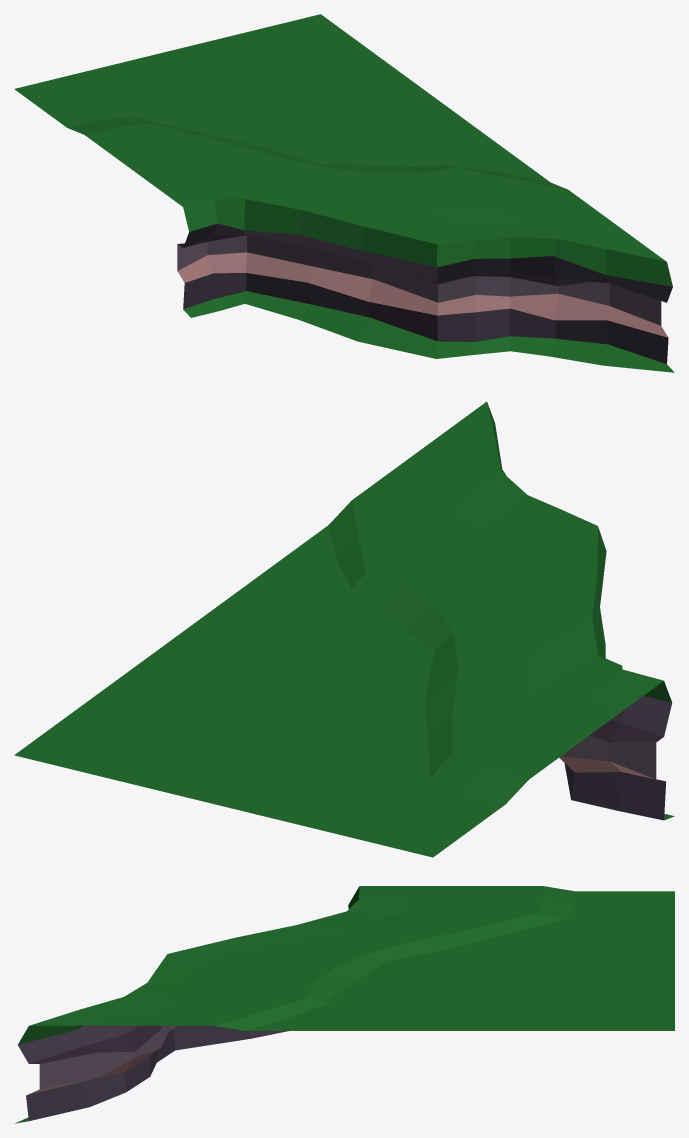
Rendered from Barranco_a_Cesped_ChanfleID.fbx.
3 views of the same model, one above another, from view 1: azimuth 30°, elevation 25°; view 2: azimuth 150°, elevation 25°; view 3: azimuth 270°, elevation 25° (orthographic). The views are drawn at different scales.
Visible parts, largest first — view 1: Barranco_a_Cesped_ChanfleID; view 2: Barranco_a_Cesped_ChanfleID; view 3: Barranco_a_Cesped_ChanfleID.
Boxes of the visible parts, x1,y1,x2,y2 form: Barranco_a_Cesped_ChanfleID: (14, 14, 674, 372); Barranco_a_Cesped_ChanfleID: (14, 401, 674, 857); Barranco_a_Cesped_ChanfleID: (15, 886, 674, 1123).
Bounding box in the file's own units: 2000 × 662 × 4000.
